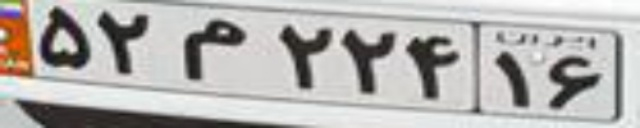1: (491, 49, 531, 107)
2: (272, 23, 336, 89), (340, 28, 396, 94), (96, 12, 155, 74)
4: (407, 34, 458, 99)
5: (36, 7, 88, 69)
6: (546, 54, 603, 109)
mim: (181, 17, 246, 81)
